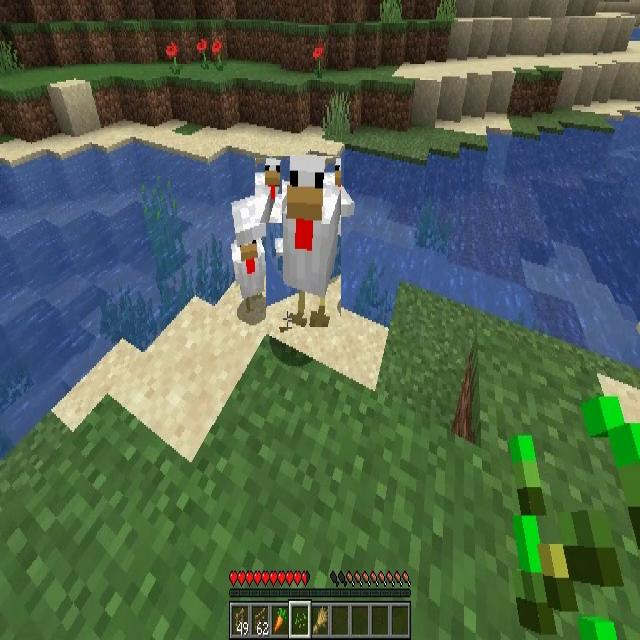duck: (266, 156, 341, 327), (234, 228, 266, 308), (255, 158, 282, 223)
